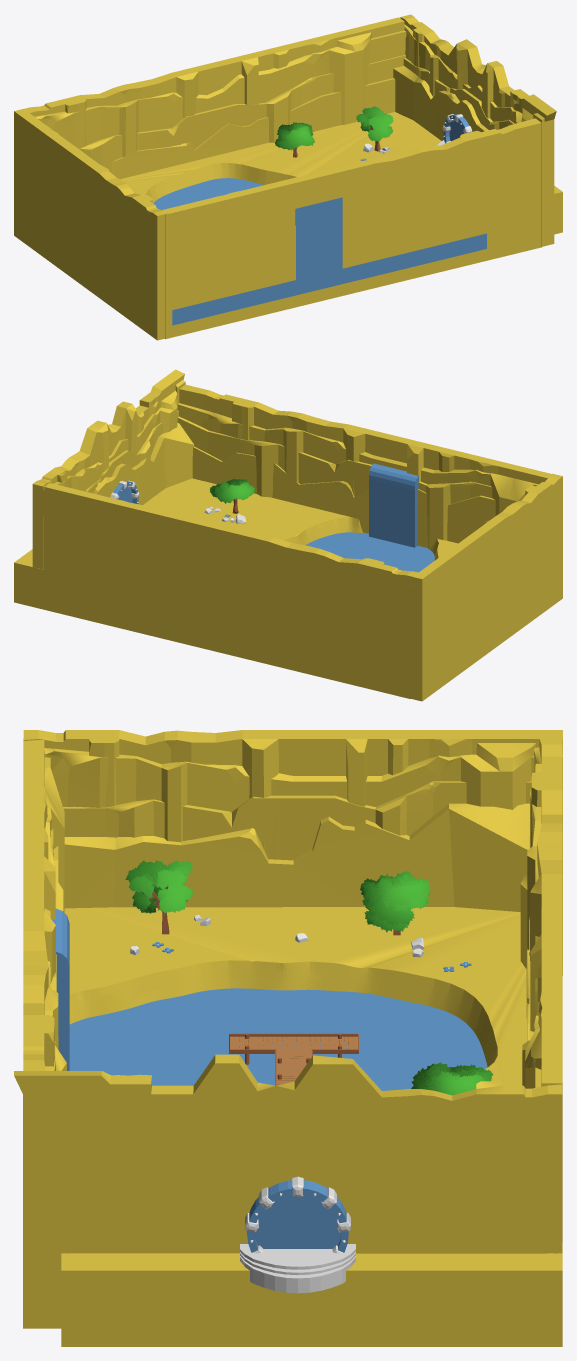
File: Fishing Chunk.fbx
3 renders of one model, top to bottom at view 1: azimuth 30°, elevation 25°; view 2: azimuth 150°, elevation 25°; view 3: azimuth 270°, elevation 25°, orthographic. The views are drawn at different scales.
Parts seen in each view (by area): view 1: Border.012, Border.016, Border.018, Water, Foundation, Border.020, Border.017, Border.019, Border.024, Border.022, Border.023, Border.021 (+2 smaller); view 2: Border.020, Foundation, Border.016, Border.012, Border.013, Border.010, Water, Border.011, Border.024, Border.022, Border.023, Border.046 (+2 smaller); view 3: Border.024, Foundation, Border.046, Water, Border.015, Border.016, Border.014, Border.020, Border.012, Gate Low Poly.011, Plank.063, F1_L3.010 (+11 smaller).
Part boxes in pixels (x1,y1,x2,y2): Border.012: (162,118,541,339); Border.016: (14,109,168,340); Border.018: (35,30,406,157); Water: (153,178,486,325); Foundation: (120,112,562,234); Border.020: (22,17,404,148); Border.017: (79,55,405,172); Border.019: (111,78,395,179); Border.024: (400,14,556,246); Border.022: (393,65,540,252); Border.023: (404,24,544,246); Border.021: (403,58,541,247); Border.020: (44,483,420,655); Foundation: (14,478,457,698); Border.016: (411,473,562,701); Border.012: (179,384,551,496); Border.013: (192,446,495,547); Border.010: (177,416,492,549); Water: (305,463,434,572); Border.011: (177,403,538,515); Border.024: (32,369,184,569); Border.022: (46,423,194,573); Border.023: (43,380,185,569); Border.046: (394,608,408,698); Border.024: (14,1054,562,1328); Foundation: (61,907,562,1346); Border.046: (64,803,529,912); Water: (52,908,487,1090); Border.015: (44,743,562,975); Border.016: (23,730,562,849); Border.014: (63,781,531,860); Border.020: (530,737,562,1241); Border.012: (23,738,55,1070); Gate Low Poly.011: (254,1195,340,1248); Plank.063: (230,1036,357,1085); F1_L3.010: (125,860,193,913).
Bounding box in the file's own units: 11291 × 3565 × 6659.
